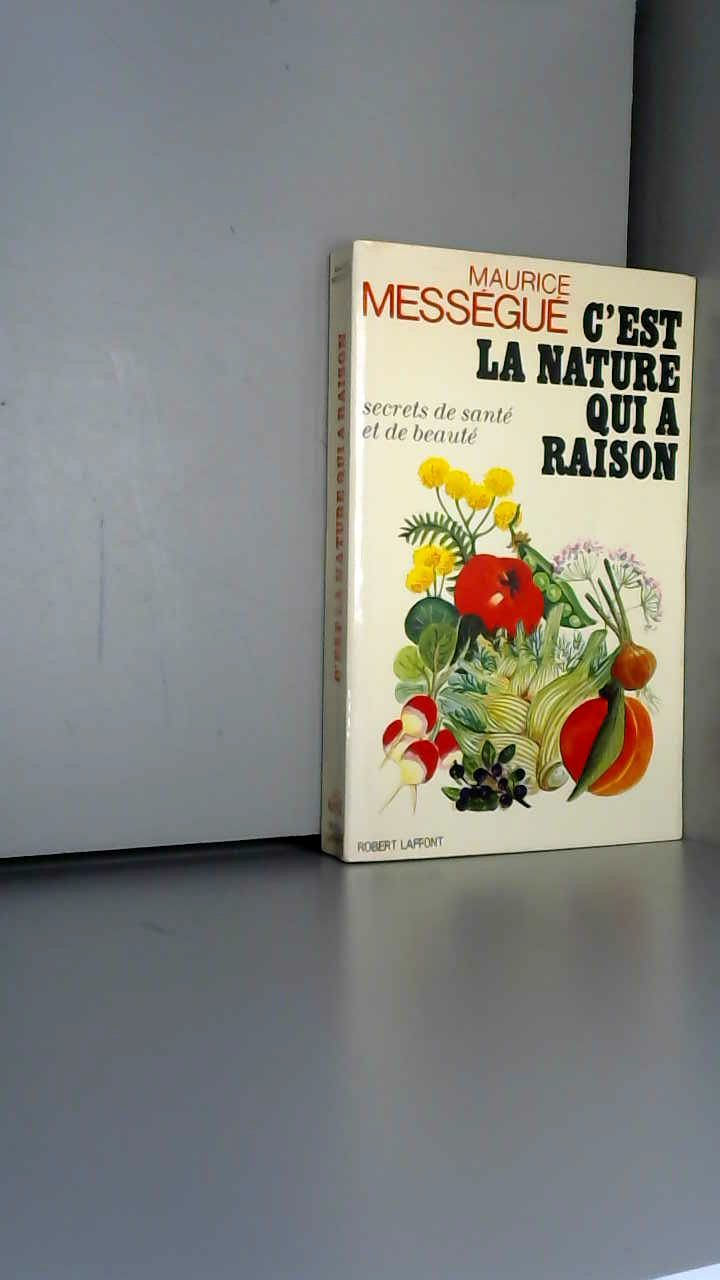book: (320, 210, 720, 931)
